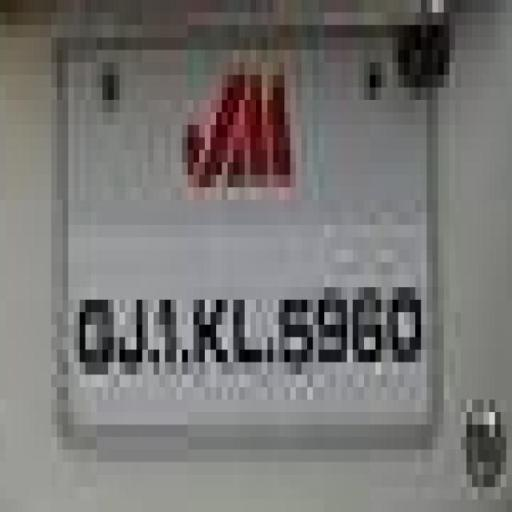number plate: (40, 212, 450, 425)
